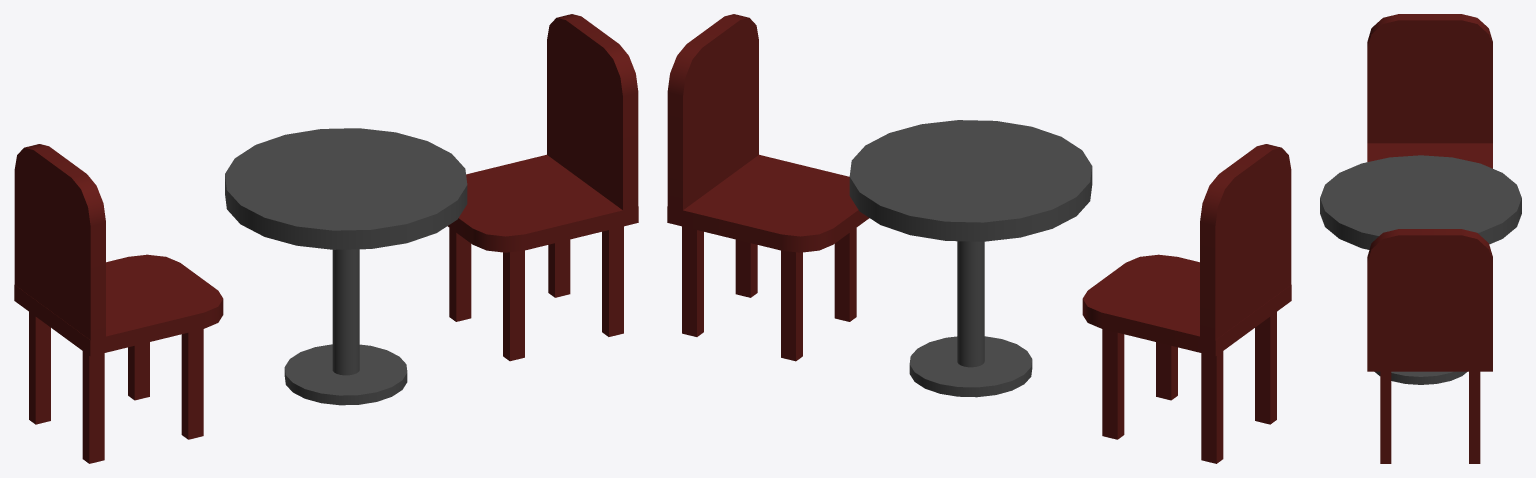
Rendered from level17.fbx.
3 renders of one model, left to right at view 1: azimuth 30°, elevation 25°; view 2: azimuth 150°, elevation 25°; view 3: azimuth 270°, elevation 25°, orthographic. The views are drawn at different scales.
Parts seen in each view (by area): view 1: chair; view 2: chair; view 3: chair.
Part boxes in pixels (box(x1,y1,x2,y2)): chair: box(14, 14, 638, 463); chair: box(667, 14, 1291, 463); chair: box(1320, 14, 1521, 463).
Size of the model in its own units: 13.67 by 6.76 by 5.27.
